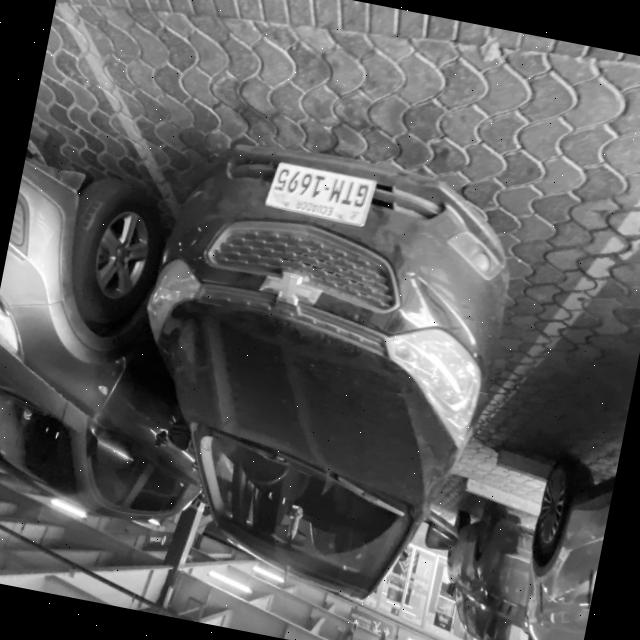Placa: (265, 162, 375, 225)
